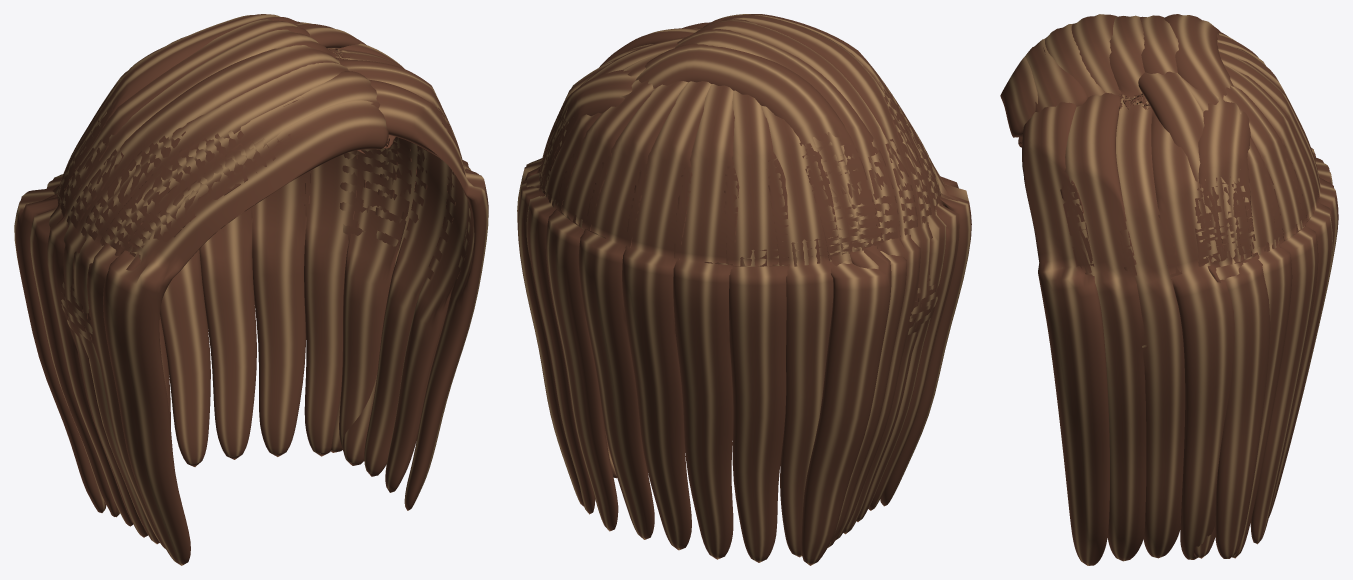
File: Highlights-ae1d5543e798252-hair.glb
3 renders of one model, left to right at view 1: azimuth 30°, elevation 25°; view 2: azimuth 150°, elevation 25°; view 3: azimuth 270°, elevation 25°, orthographic.
Visible parts, largest first — view 1: 226 hair / Hair / sculpted 0.001, 226 hair / Hair / sculpted 1.002, 226 hair / Hair / sculpted 2.001; view 2: 226 hair / Hair / sculpted 0.001, 226 hair / Hair / sculpted 2.001, 226 hair / Hair / sculpted 1.002; view 3: 226 hair / Hair / sculpted 1.002, 226 hair / Hair / sculpted 2.001, 226 hair / Hair / sculpted 0.001.
Boxes of the visible parts, left/top/right/bottom form: 226 hair / Hair / sculpted 0.001: left=14, top=14, right=455, bottom=565; 226 hair / Hair / sculpted 1.002: left=47, top=23, right=488, bottom=548; 226 hair / Hair / sculpted 2.001: left=30, top=19, right=471, bottom=544; 226 hair / Hair / sculpted 0.001: left=545, top=14, right=971, bottom=565; 226 hair / Hair / sculpted 2.001: left=517, top=14, right=946, bottom=557; 226 hair / Hair / sculpted 1.002: left=517, top=14, right=959, bottom=562; 226 hair / Hair / sculpted 1.002: left=1019, top=15, right=1333, bottom=565; 226 hair / Hair / sculpted 2.001: left=1043, top=15, right=1338, bottom=561; 226 hair / Hair / sculpted 0.001: left=1000, top=14, right=1332, bottom=558.
Bounding box in the file's own units: 1.02 × 1.21 × 0.7752.
4 materials, 4 textured.
